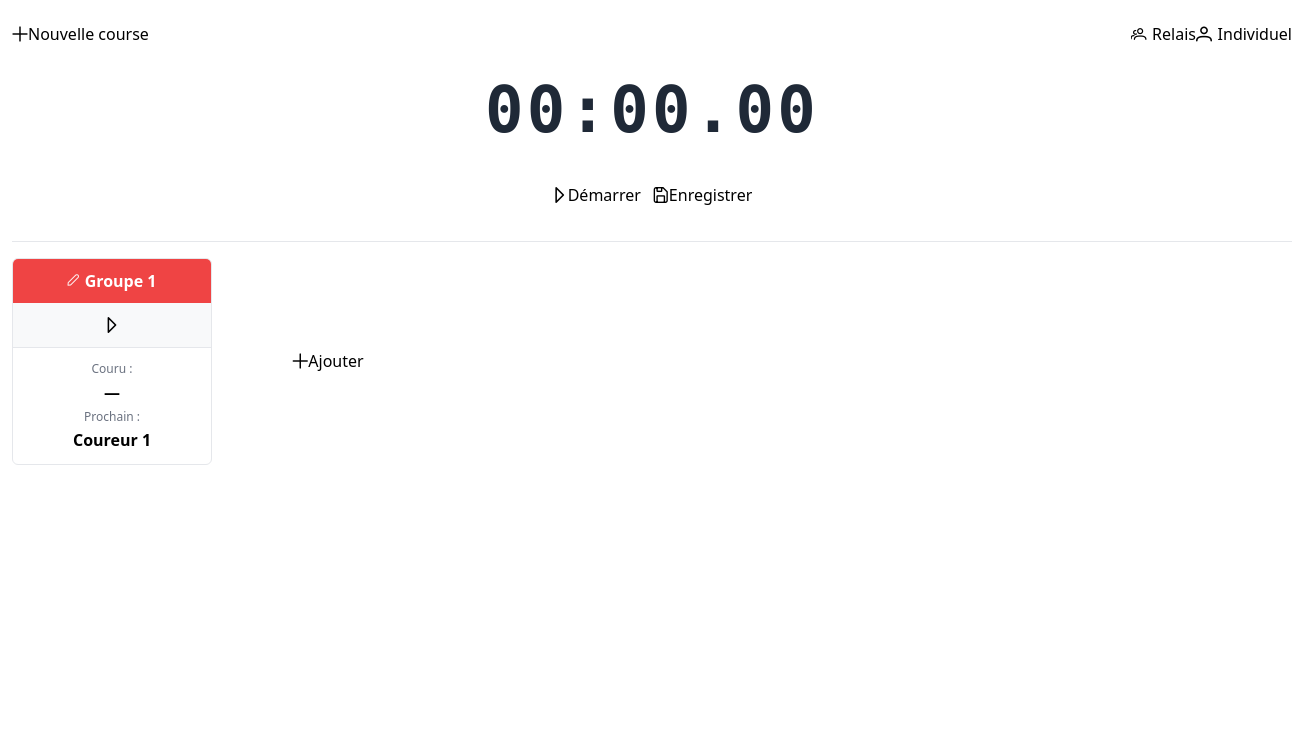
Test: HomeView › bouton Enregistrer activé après arrêt du chrono même sans passages
Click the button "Démarrer" at (596, 195), box [552,173,641,217]
Wait 10 ms
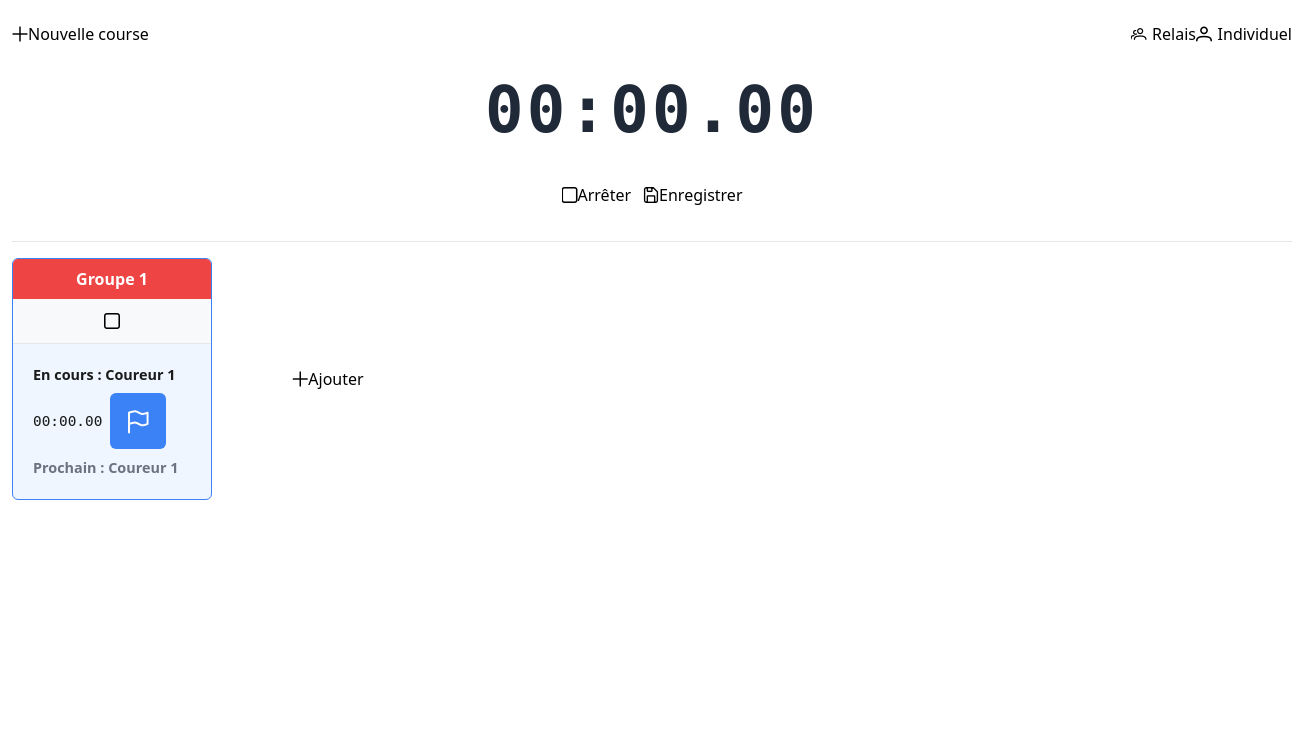
Click the button "Arrêter" at (596, 195), box [562,173,631,217]
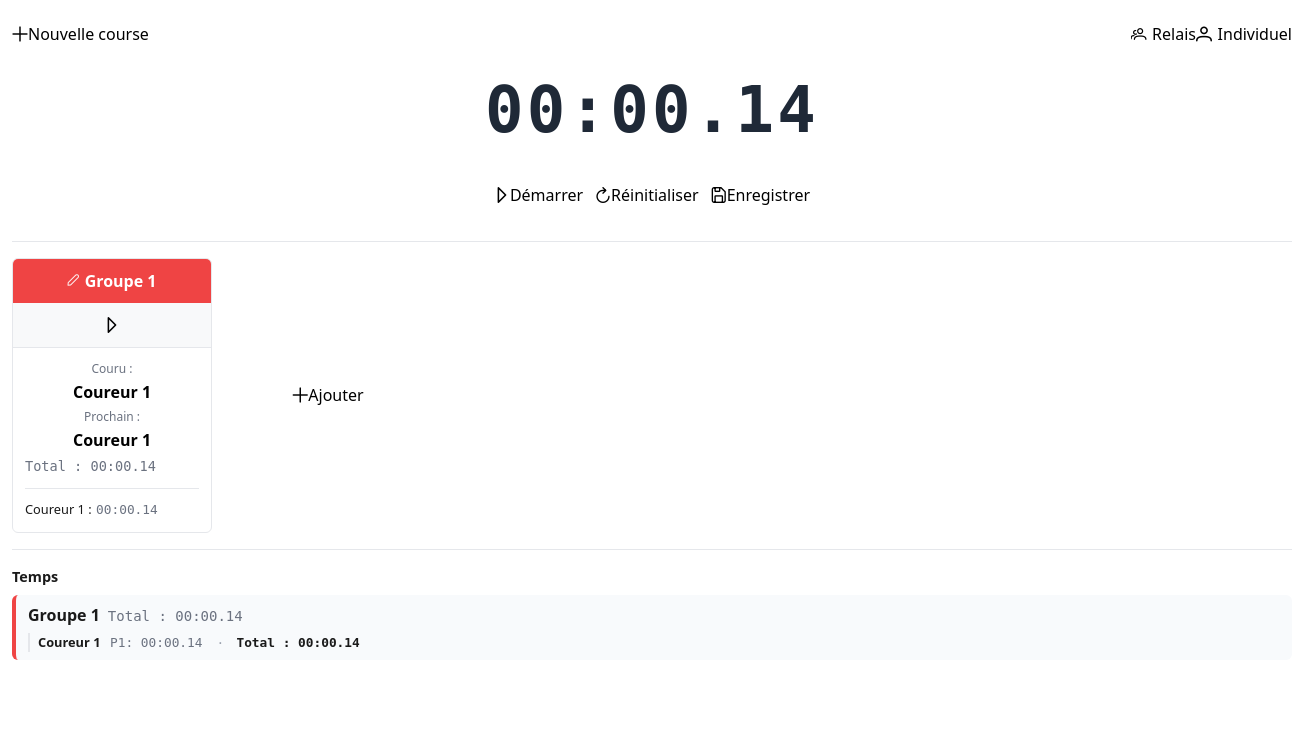
Check: the button "Enregistrer" is enabled, box [711,173,810,217]
